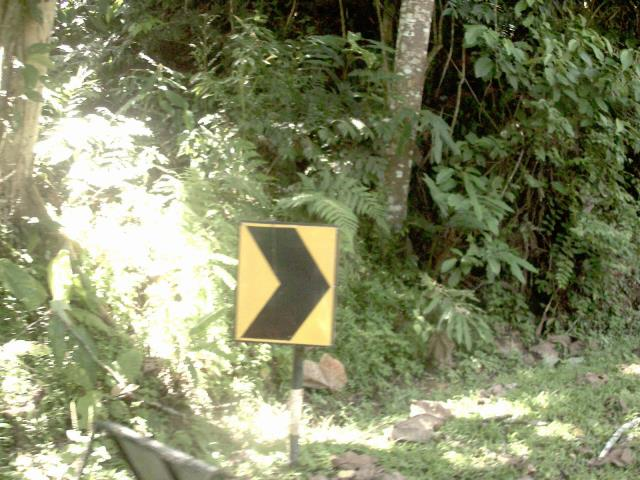traffic_sign: (220, 205, 355, 363)
